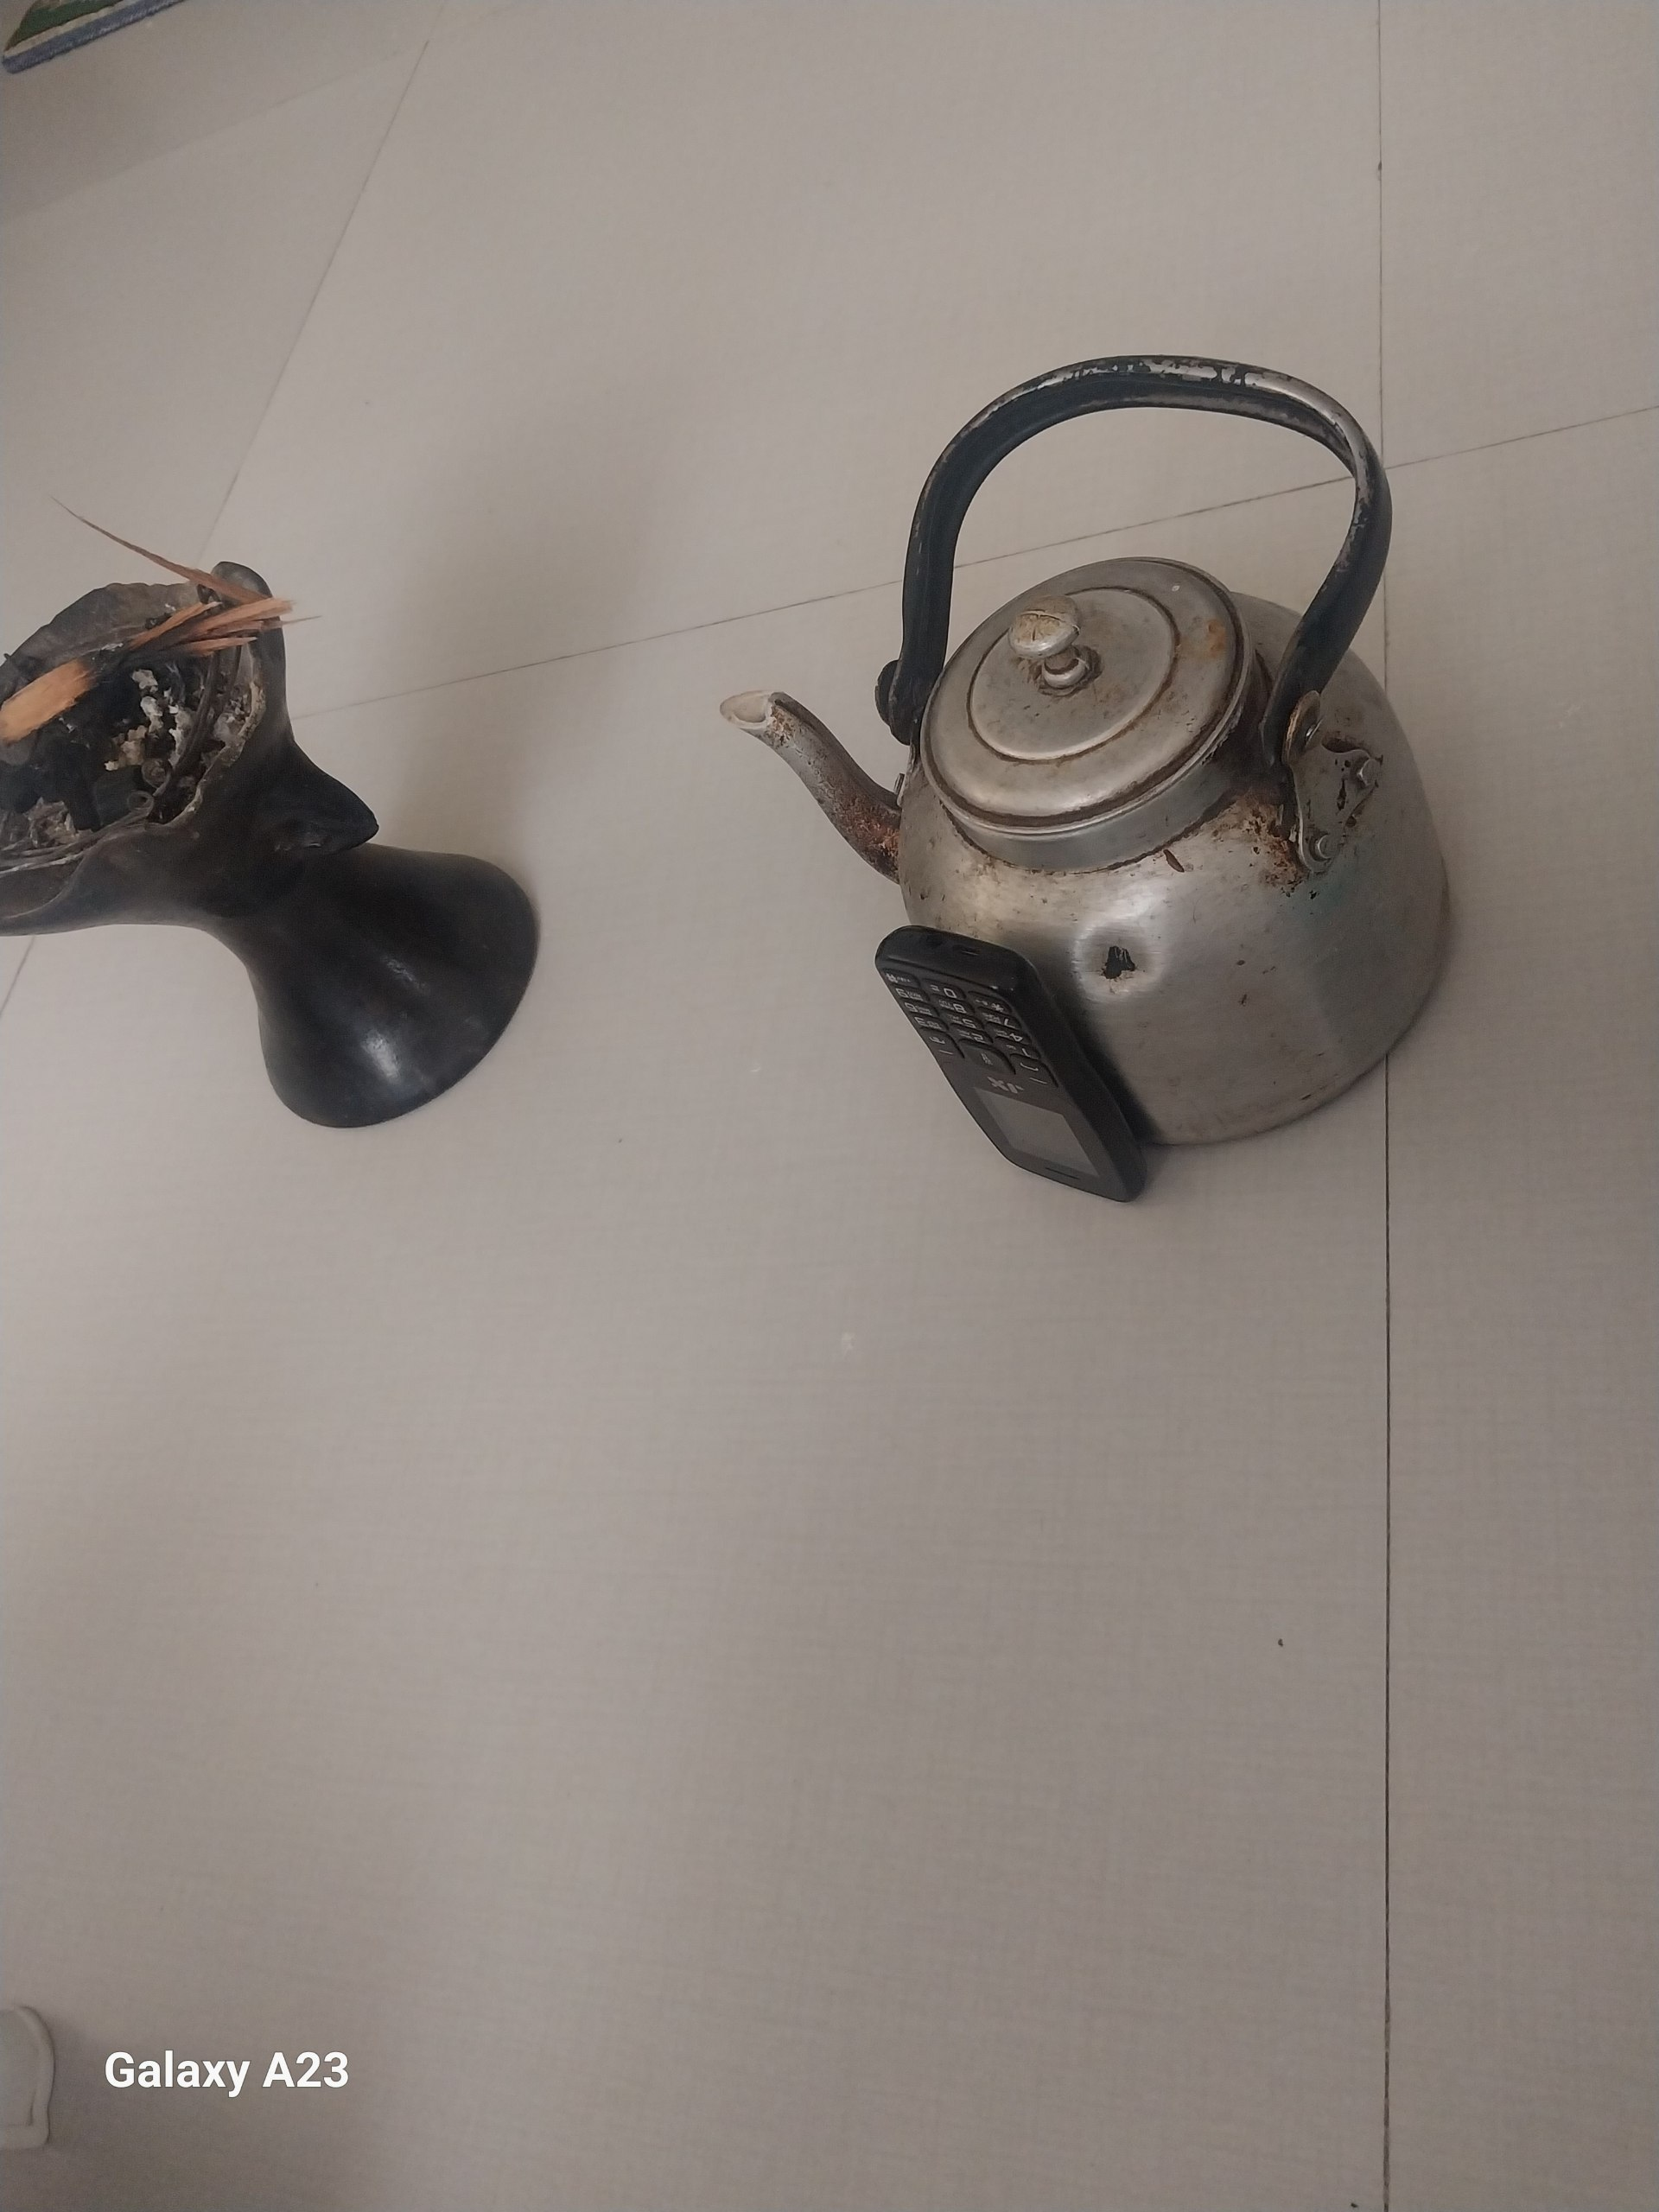Kettle: (697, 327, 1471, 1157)
Porcelain: (5, 498, 544, 1139)
mobile: (861, 918, 1166, 1268)
